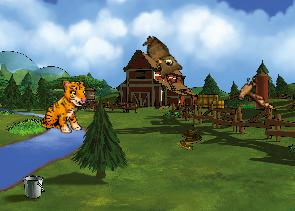eagle: (228, 76, 276, 113)
owl: (132, 33, 186, 84)
tiger: (41, 79, 87, 134)
